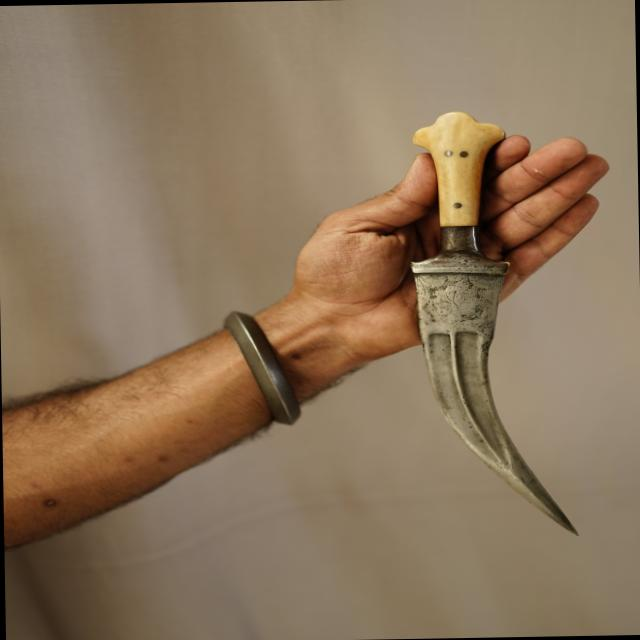Gun: (396, 101, 552, 534)
